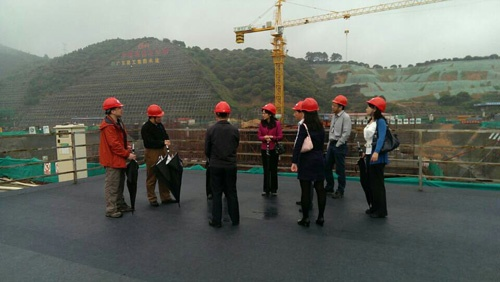red: (100, 96, 124, 119), (300, 94, 320, 117), (364, 96, 386, 115), (145, 103, 164, 123), (213, 100, 231, 121), (260, 102, 276, 121), (331, 94, 347, 112), (292, 99, 304, 119)
